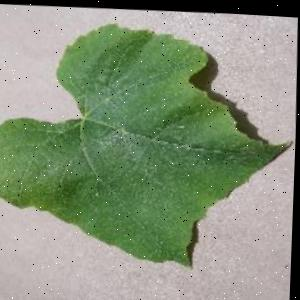Folha: (0, 11, 300, 272)
